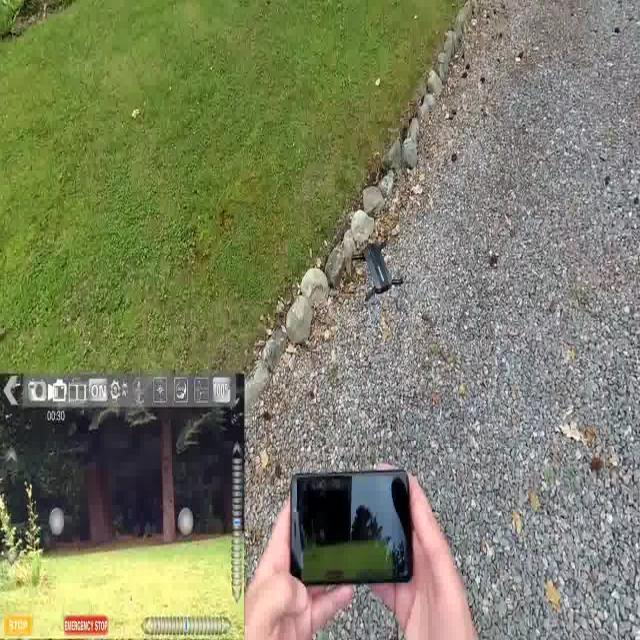drones: (348, 221, 411, 319)
